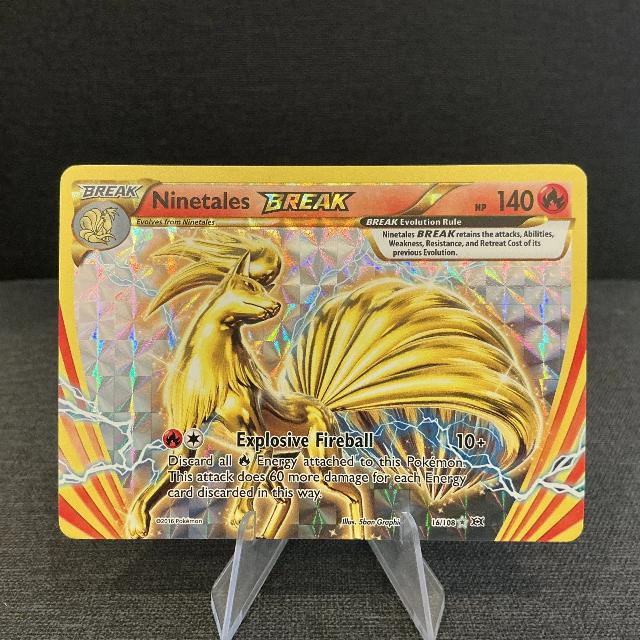Card: (53, 155, 593, 549)
Name: (144, 183, 359, 217)
